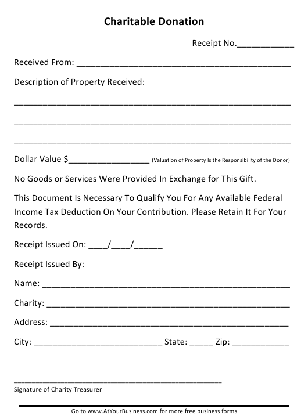textline: (11, 128, 292, 149), (12, 89, 291, 108), (12, 361, 223, 385), (11, 110, 291, 128), (40, 275, 291, 291), (44, 294, 291, 310), (75, 53, 293, 70), (48, 314, 290, 329), (32, 331, 163, 349), (86, 234, 163, 251), (67, 152, 150, 166), (230, 331, 290, 349), (235, 35, 295, 49), (187, 331, 214, 349), (133, 237, 163, 250), (86, 237, 106, 251), (110, 238, 131, 251)
